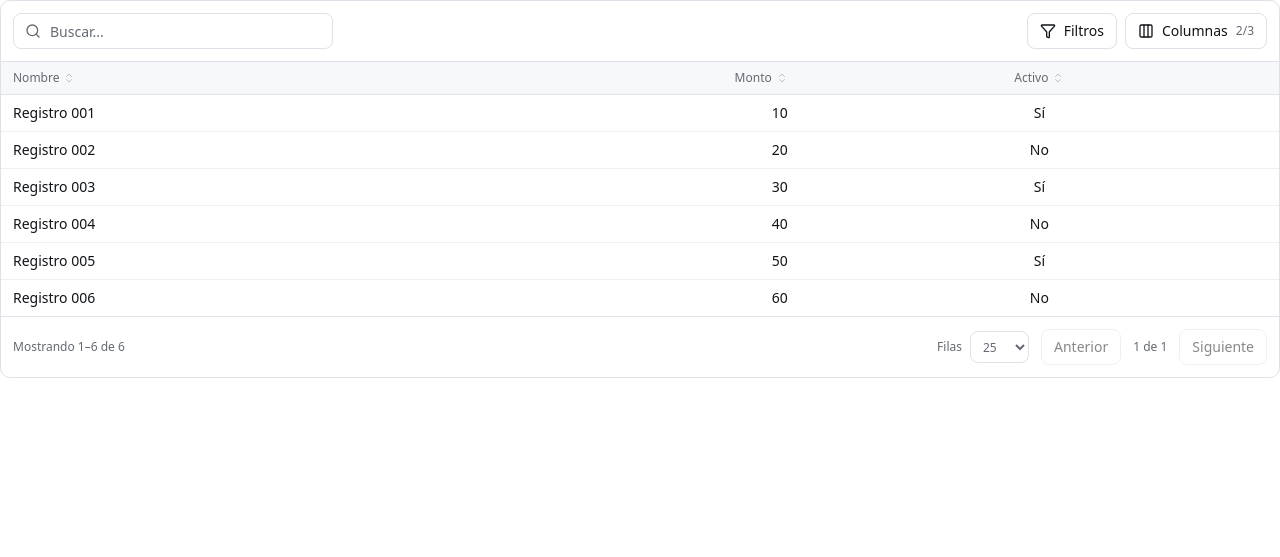
Test case: FilterBuilder › quita una condición
The image size is (1280, 557).
Click the button with aria-label "Filtros," at point(1072, 31), box [1027,13,1117,49]
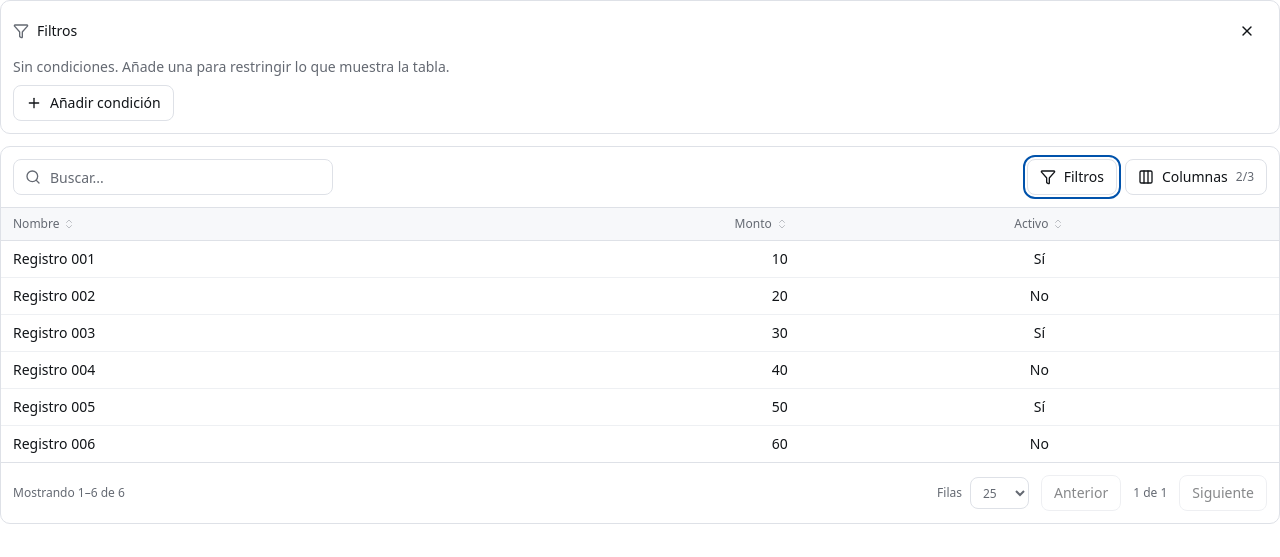
Click the button "Añadir condición" at point(93, 103), box [13,85,174,121]
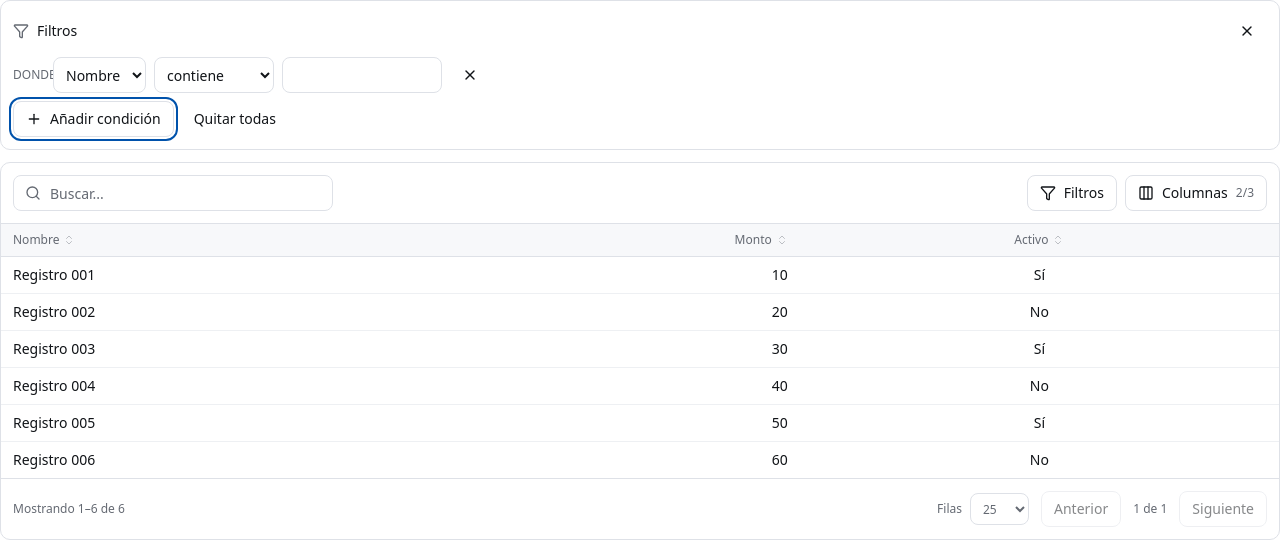
Type "Registro 003" into the field named "Valor de la condición 1" at point(362, 75), box [282,57,442,93]
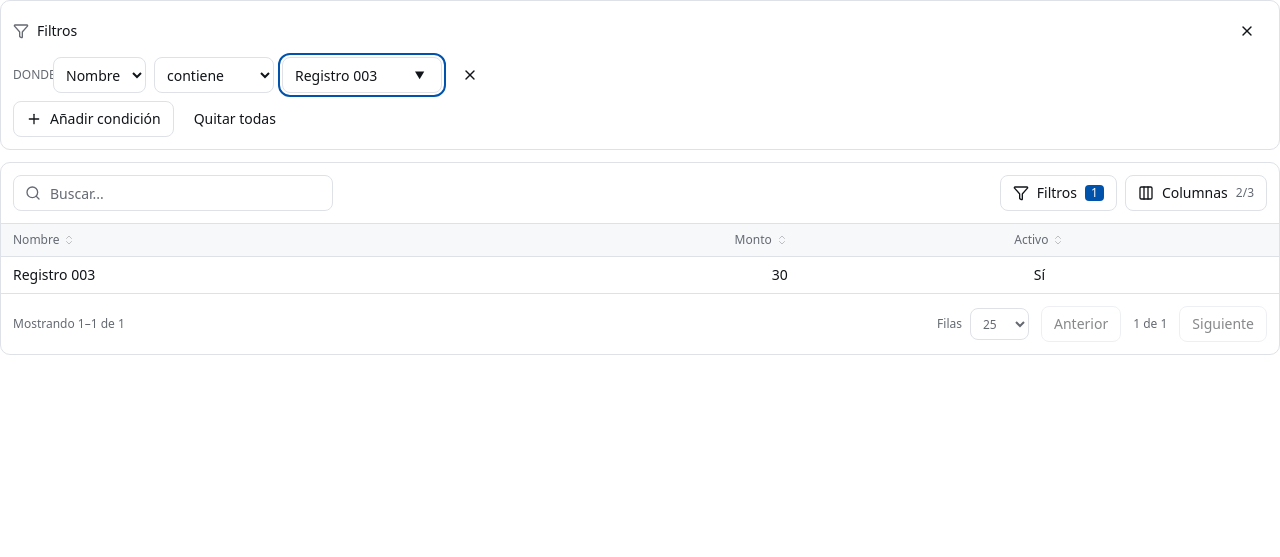
Click the button named "Quitar la condición 1" at point(470, 75), box [450,57,490,93]
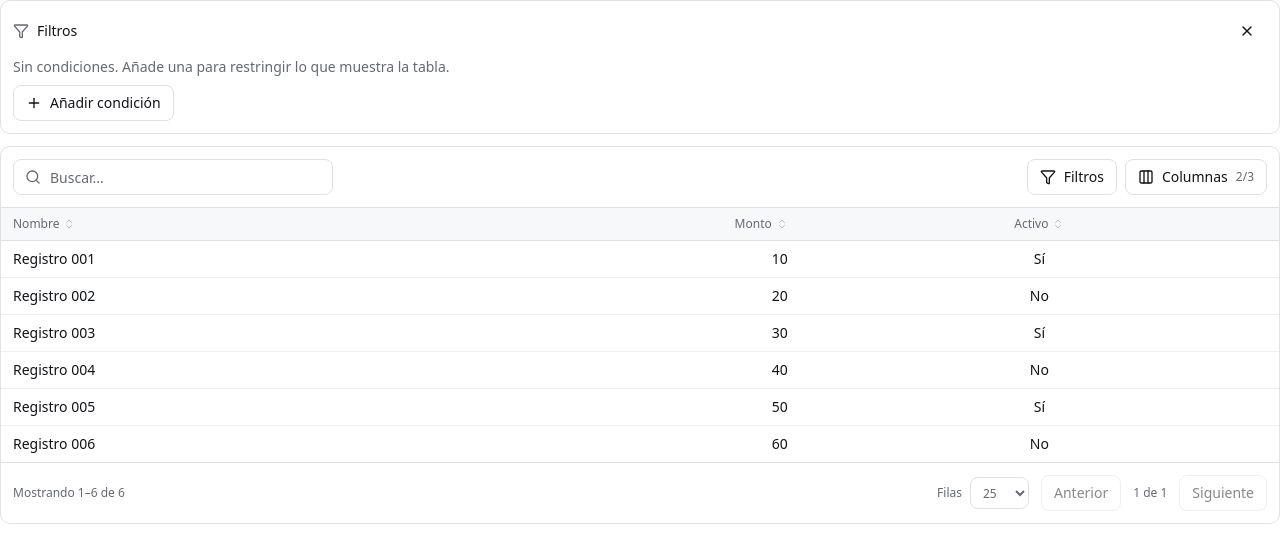
Check: the text "Sin condiciones" is shown, box [13,57,450,76]
